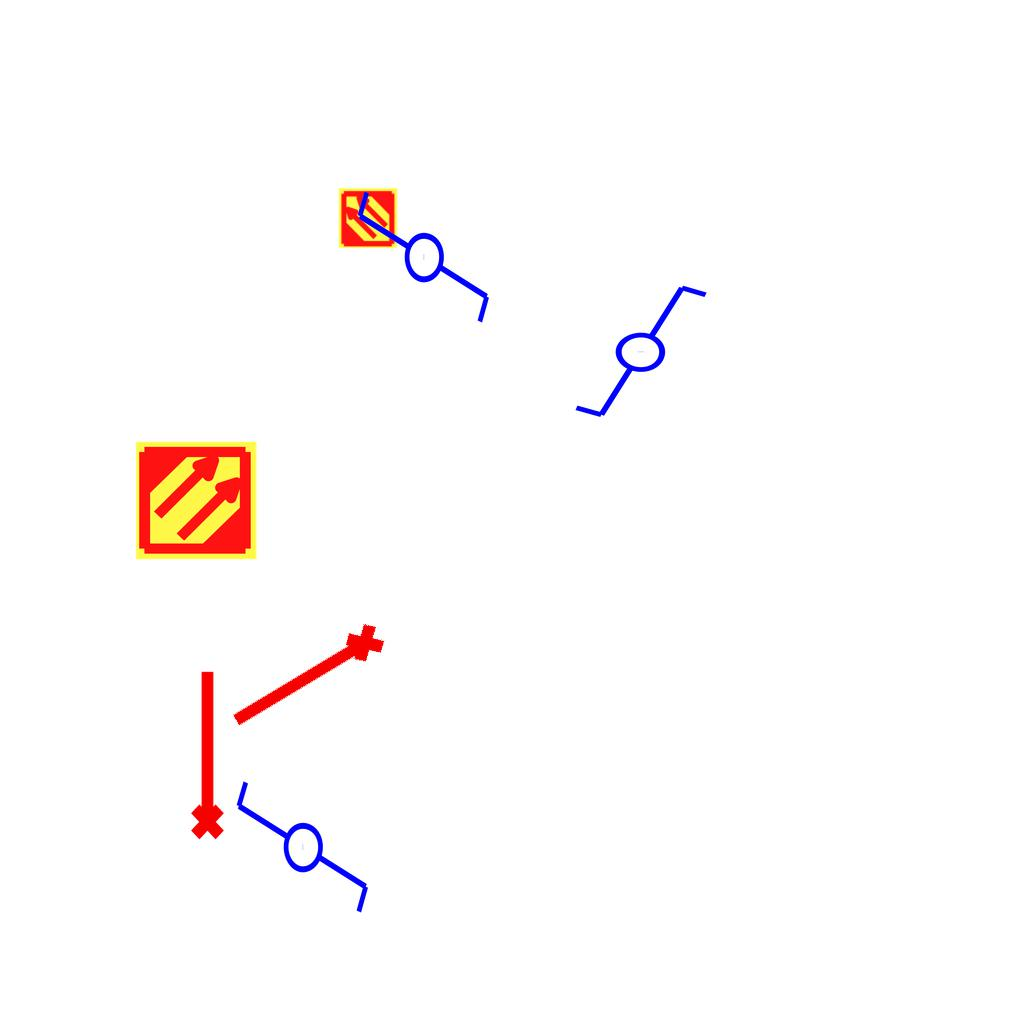ASR_Ansaugoeffnung: (220, 614, 396, 746), (182, 666, 228, 842)
ASR_Ansaugrauchmelder: (134, 438, 259, 563), (337, 187, 399, 249)
Wechselschalter: (229, 777, 373, 934), (554, 278, 711, 422), (350, 187, 494, 344)
